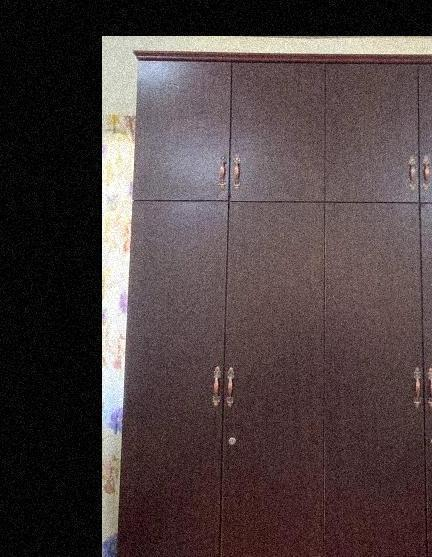Armario: (112, 44, 432, 557)
